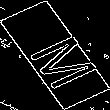M_NE: (13, 22, 97, 88)
